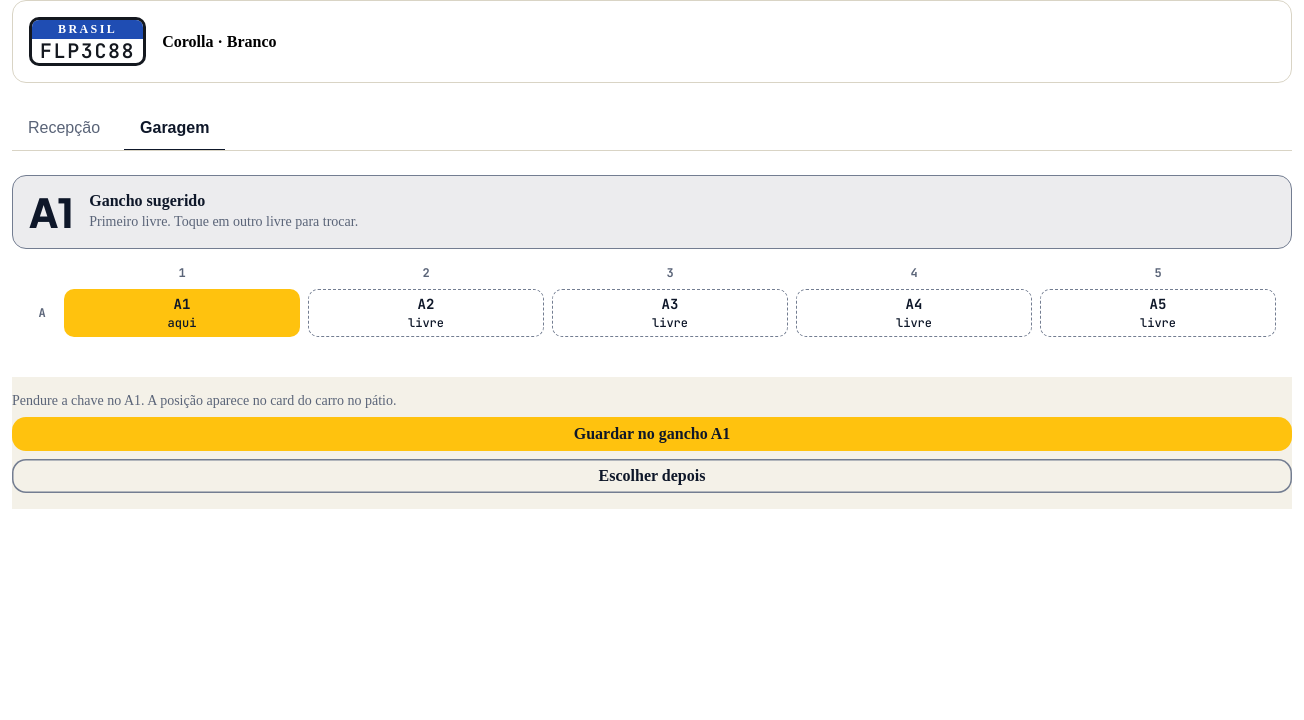
Scenario: EscolherGancho › com vários quadros começa pelo de mais livres e permite trocar de quadro
Expected: the tab "Garagem" is shown, [124,107,225,151]
Expected: the button "Guardar no gancho A1" is shown, [12,417,1292,451]
Click the tab "Recepção".
click(64, 129)  # box [12,107,116,151]
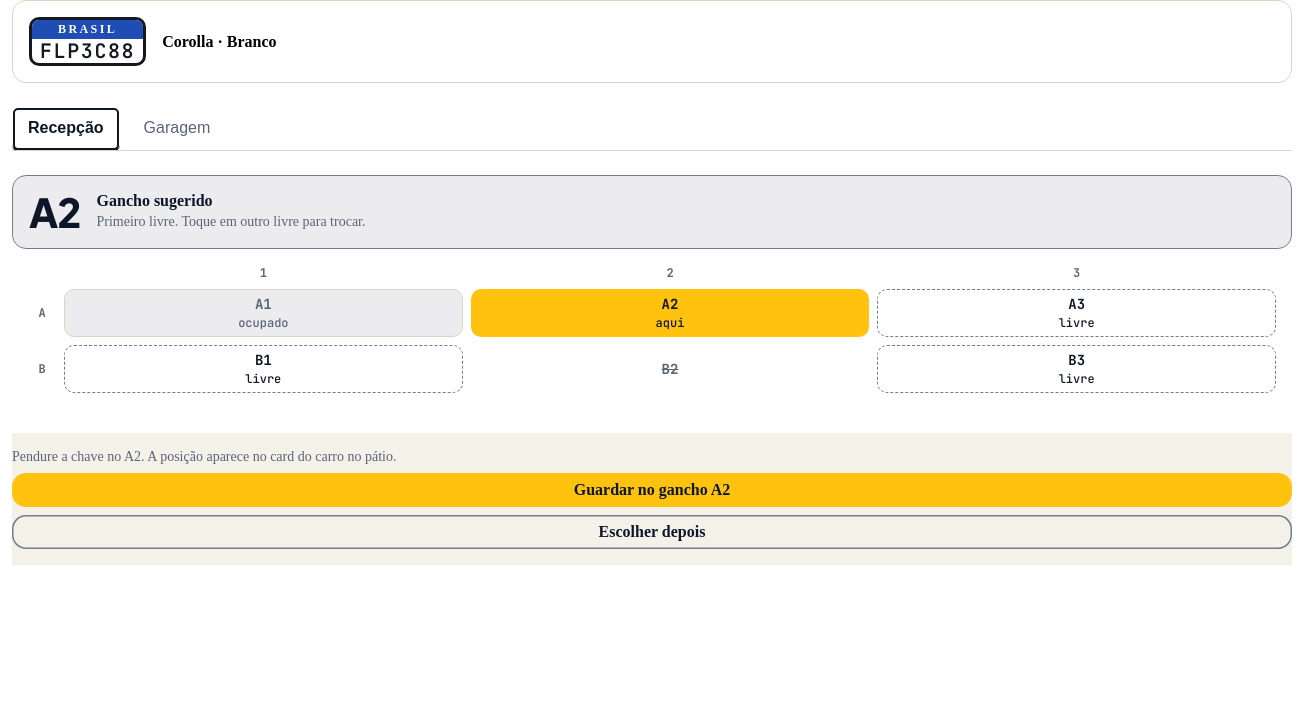
Result: the button "Guardar no gancho A2" is shown at [12,473,1292,507]
